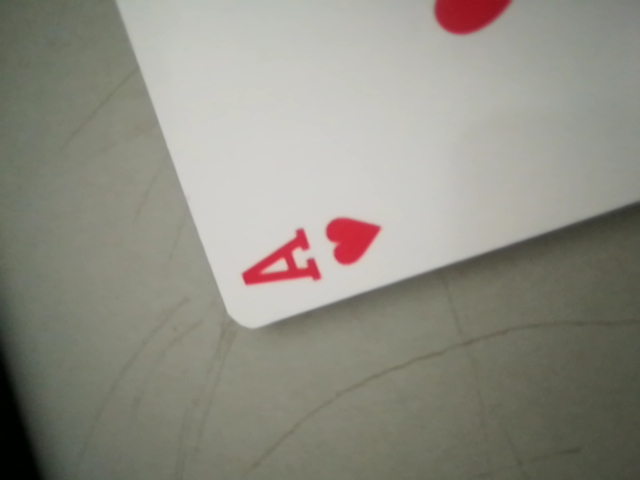hx a: (232, 201, 391, 303)
